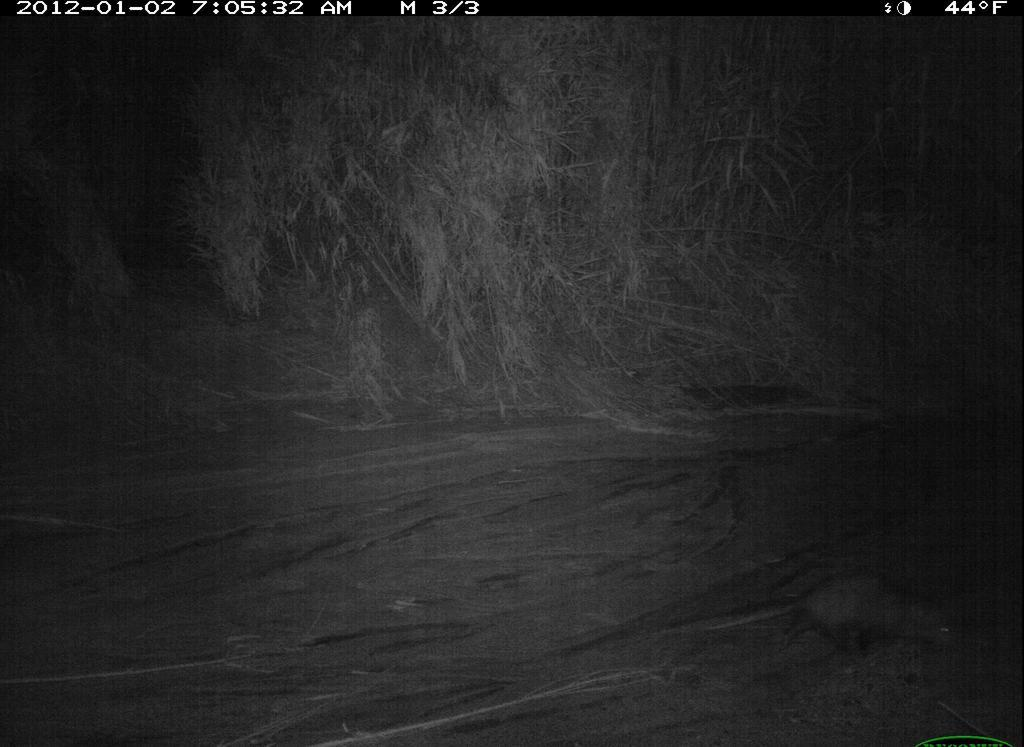opossum: (706, 570, 966, 669)
